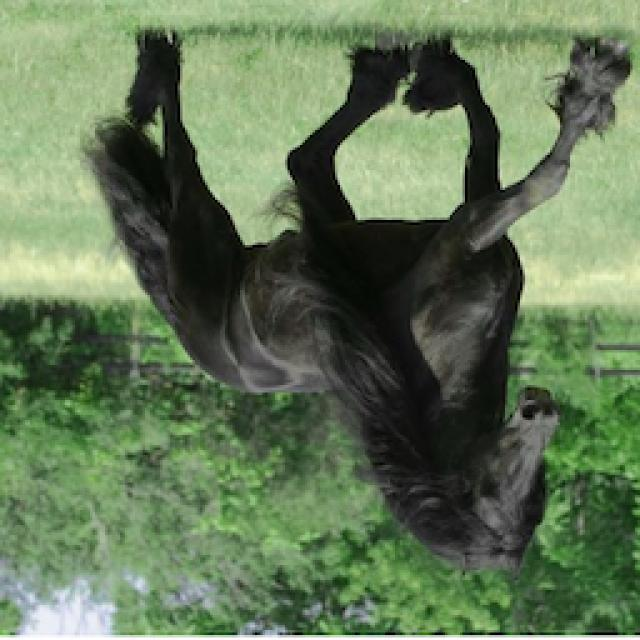Horse: (78, 25, 638, 580)
